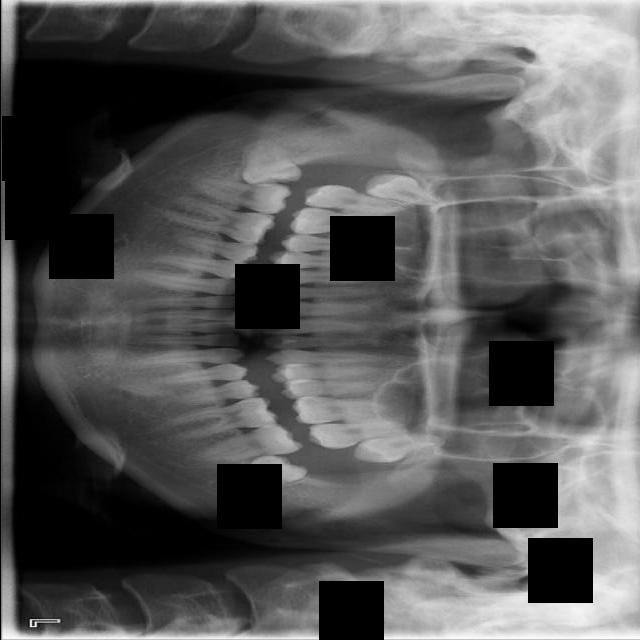3M ESPE Implant: (362, 167, 468, 217)
52: (263, 334, 307, 351), (212, 260, 250, 279)
73: (60, 602, 94, 610)
BioHorizons Implant: (308, 419, 433, 450)
BioLife Implant: (351, 428, 467, 467)
Biomet 3i Implant: (221, 442, 310, 504)
Blue Sky Bio Implant: (188, 419, 304, 469)
Caries: (302, 181, 426, 219)
Keystone Dental Implant: (192, 177, 291, 216), (240, 137, 305, 191)
